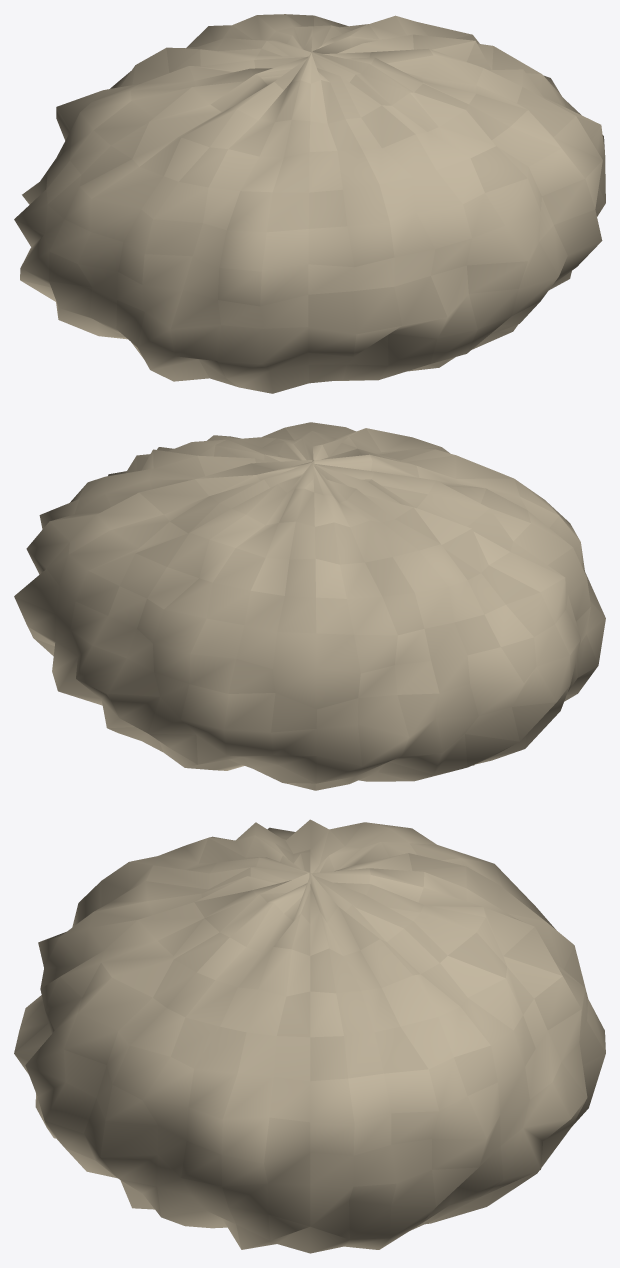
Rendered from Kashk.glb.
The picture shows the model from 3 angles, top to bottom: view 1: azimuth 30°, elevation 25°; view 2: azimuth 150°, elevation 25°; view 3: azimuth 270°, elevation 25°; orthographic projection. The views are drawn at different scales.
Visible parts, largest first — view 1: Kashk; view 2: Kashk; view 3: Kashk.
Boxes of the visible parts, <box> form: Kashk: <box>14,14,605,393</box>; Kashk: <box>14,422,605,790</box>; Kashk: <box>14,819,605,1253</box>.
Size of what is drawn, in the model's own units: 0.0726 by 0.0386 by 0.0631.
